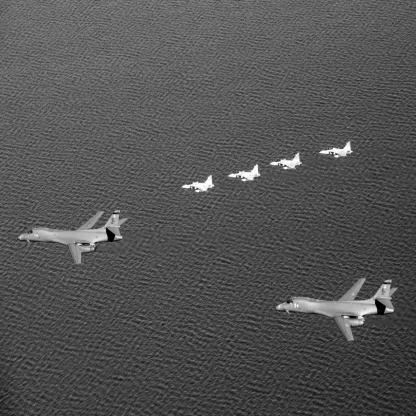B1: (276, 278, 399, 342), (18, 210, 129, 265)
JAS39: (182, 176, 216, 195), (229, 165, 262, 183), (320, 142, 354, 159), (270, 154, 303, 171)
